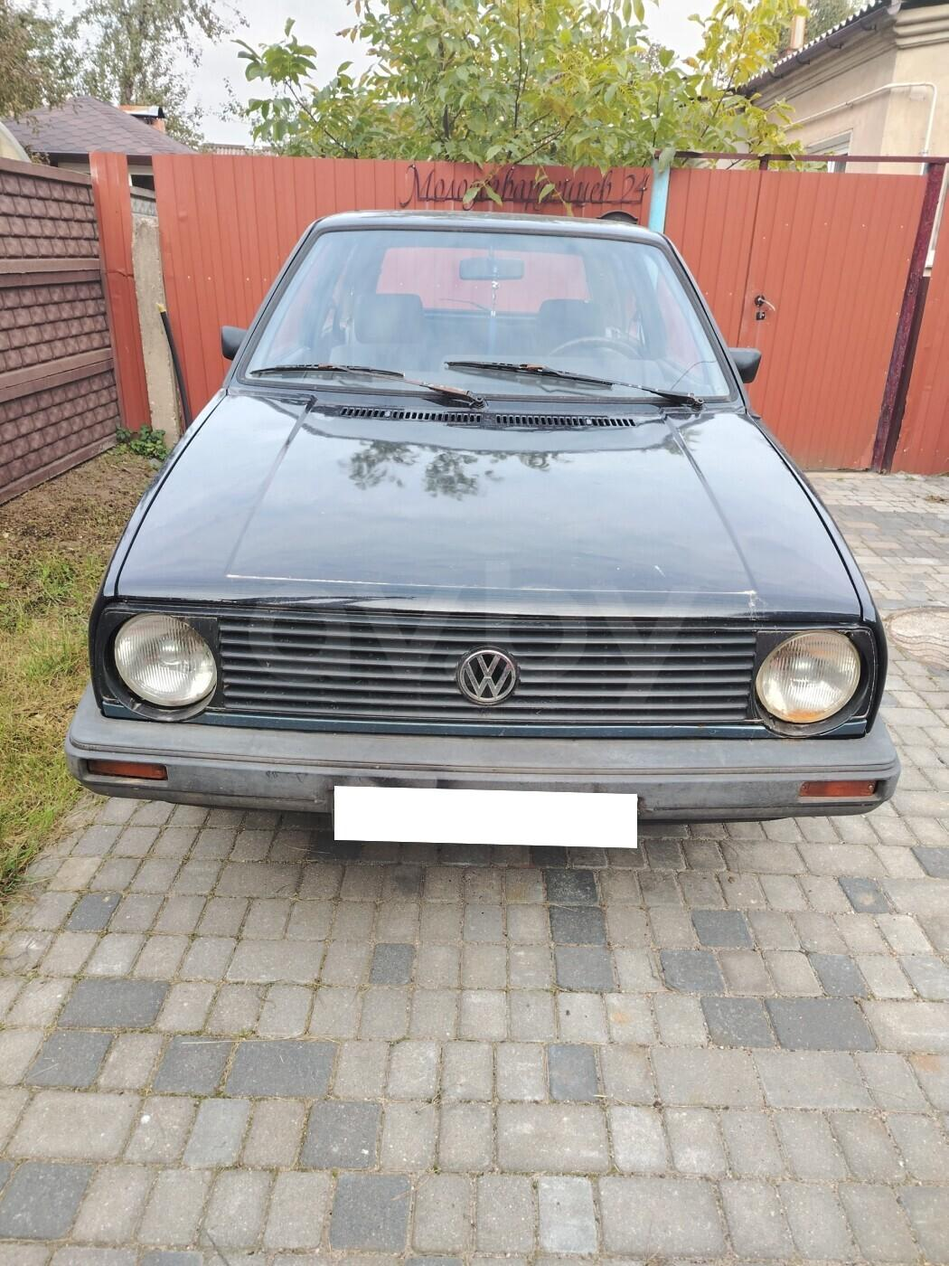Golf_1983-1992: (56, 186, 910, 891)
